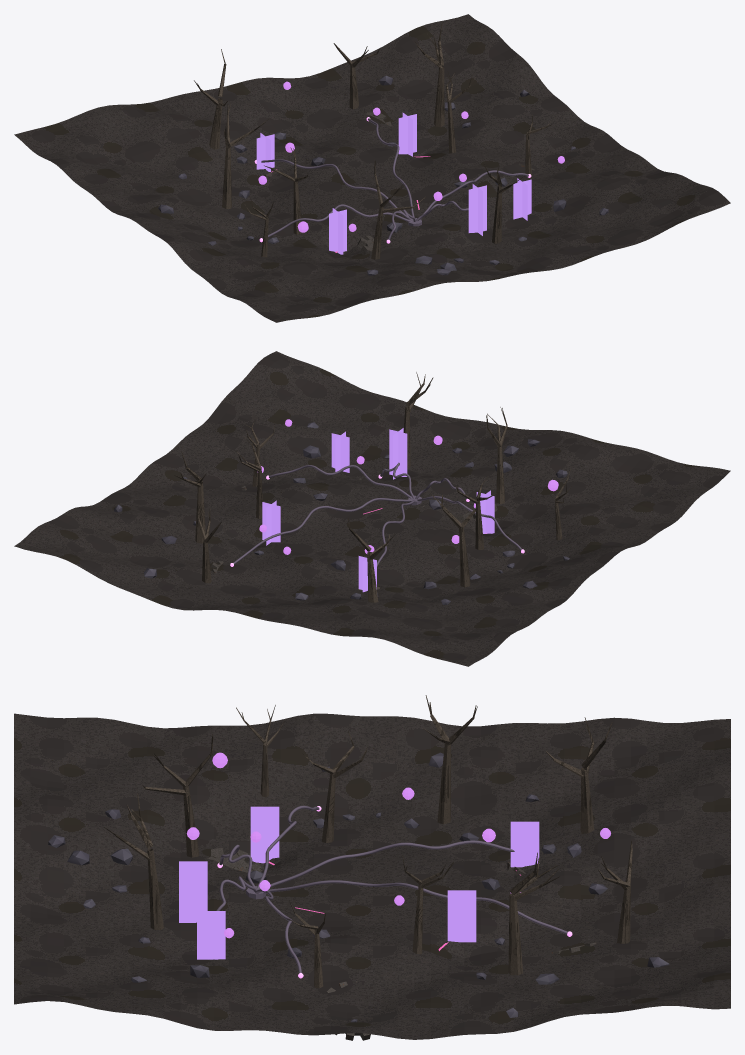
The model's file is dark_biome.glb.
The picture shows the model from 3 angles, top to bottom: view 1: azimuth 30°, elevation 25°; view 2: azimuth 150°, elevation 25°; view 3: azimuth 270°, elevation 25°; orthographic projection. The views are drawn at different scales.
Visible parts, largest first — view 1: Ground_Dark, Aura_Wisp_03, DeadTree_05, DeadTree_01, Aura_Wisp_00, Aura_Wisp_01, DeadTree_06, Aura_Wisp_04, DeadTree_08, Aura_Wisp_02, DeadTree_07, DeadTree_00 (+2 smaller); view 2: Ground_Dark, Aura_Wisp_03, DeadTree_01, Aura_Wisp_01, DeadTree_06, Aura_Wisp_04, DeadTree_05, DeadTree_08, Cable_03, DeadTree_09, Aura_Wisp_00, DeadTree_00 (+1 smaller); view 3: Ground_Dark, Aura_Wisp_03, Aura_Wisp_01, DeadTree_05, Aura_Wisp_00, Aura_Wisp_04, DeadTree_07, Aura_Wisp_02, DeadTree_01, DeadTree_08, DeadTree_06, DeadTree_00 (+7 smaller).
Boxes of the visible parts, <box> form: Ground_Dark: <box>14,14,730,322</box>; Aura_Wisp_03: <box>468,184,486,235</box>; DeadTree_05: <box>414,22,444,127</box>; DeadTree_01: <box>222,102,269,208</box>; Aura_Wisp_00: <box>329,208,346,254</box>; Aura_Wisp_01: <box>398,112,416,156</box>; DeadTree_06: <box>371,159,425,259</box>; Aura_Wisp_04: <box>513,178,531,220</box>; DeadTree_08: <box>194,49,227,149</box>; Aura_Wisp_02: <box>256,133,274,171</box>; DeadTree_07: <box>483,163,524,243</box>; DeadTree_00: <box>264,147,308,234</box>; Ground_Dark: <box>14,351,730,666</box>; Aura_Wisp_03: <box>389,428,407,479</box>; DeadTree_01: <box>429,490,479,587</box>; Aura_Wisp_01: <box>262,500,280,545</box>; DeadTree_06: <box>486,407,507,503</box>; Aura_Wisp_04: <box>331,431,349,472</box>; DeadTree_05: <box>174,451,206,543</box>; DeadTree_08: <box>348,517,395,602</box>; Cable_03: <box>233,498,411,564</box>; DeadTree_09: <box>197,509,221,583</box>; Aura_Wisp_00: <box>476,490,494,533</box>; DeadTree_00: <box>455,477,498,549</box>; Ground_Dark: <box>14,713,730,1039</box>; Aura_Wisp_03: <box>179,861,207,922</box>; Aura_Wisp_01: <box>447,890,476,942</box>; DeadTree_05: <box>508,852,559,975</box>; Aura_Wisp_00: <box>250,806,279,863</box>; Aura_Wisp_04: <box>197,911,225,959</box>; DeadTree_07: <box>104,793,163,930</box>; Aura_Wisp_02: <box>510,821,539,867</box>; DeadTree_01: <box>423,695,477,824</box>; DeadTree_08: <box>546,717,612,833</box>; DeadTree_06: <box>142,734,213,857</box>; DeadTree_00: <box>302,730,367,842</box>.
Bounding box in the file's own units: 40 × 10.65 × 40.
9 materials, 3 textured.
